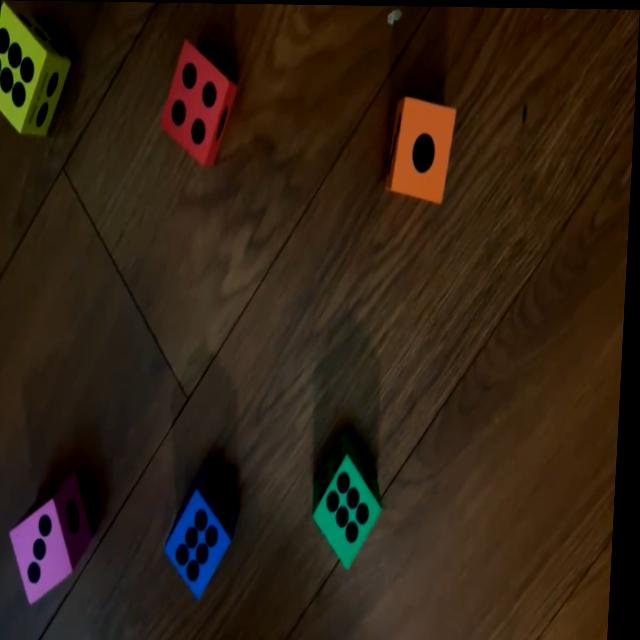cube: (169, 462, 244, 599), (315, 434, 389, 569), (160, 41, 239, 164)
